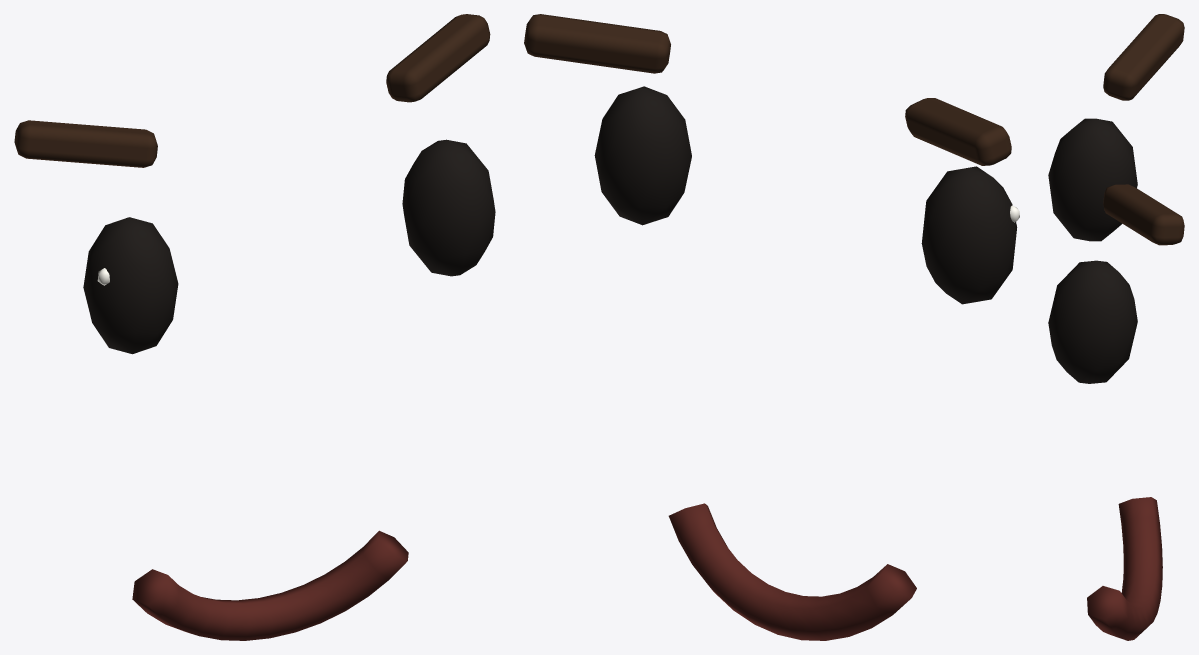
Rendered from 02-friendly.glb.
3 renders of one model, left to right at view 1: azimuth 30°, elevation 25°; view 2: azimuth 150°, elevation 25°; view 3: azimuth 270°, elevation 25°, orthographic. The views are drawn at different scales.
Parts seen in each view (by area): view 1: Face02_Mouth, Face02_Eye1, Face02_Eye-1, Face02_Brow-1, Face02_Brow1; view 2: Face02_Mouth, Face02_Eye1, Face02_Eye-1, Face02_Brow1, Face02_Brow-1; view 3: Face02_Eye1, Face02_Eye-1, Face02_Mouth, Face02_Brow-1, Face02_Brow1.
Part boxes in pixels (x1,y1,x2,y2): Face02_Mouth: (132, 530, 408, 640); Face02_Eye1: (402, 139, 495, 276); Face02_Eye-1: (83, 217, 178, 354); Face02_Brow-1: (14, 120, 157, 167); Face02_Brow1: (386, 14, 490, 102); Face02_Mouth: (668, 503, 916, 640); Face02_Eye1: (594, 86, 691, 225); Face02_Eye-1: (921, 166, 1017, 304); Face02_Brow1: (524, 14, 670, 73); Face02_Brow-1: (905, 98, 1011, 165); Face02_Eye1: (1048, 260, 1137, 383); Face02_Eye-1: (1048, 118, 1137, 241); Face02_Mouth: (1087, 497, 1162, 640); Face02_Brow-1: (1103, 14, 1184, 100); Face02_Brow1: (1103, 184, 1184, 245).
Bounding box in the file's own units: 0.2748 × 0.3111 × 0.0753.
